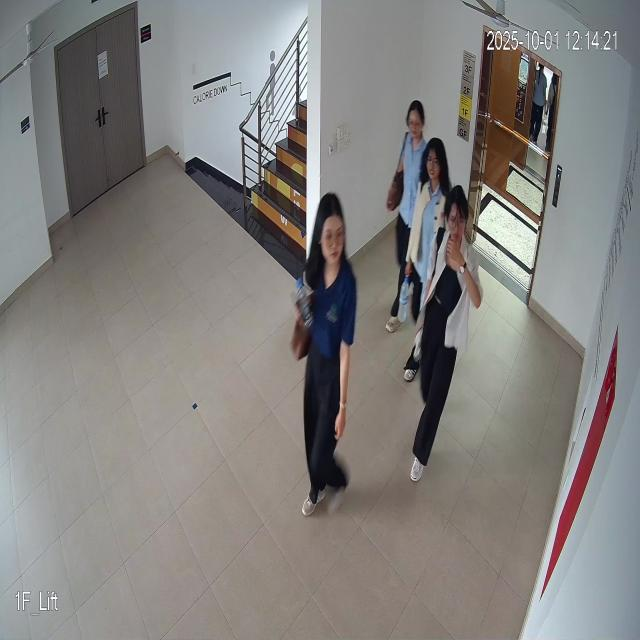face: (314, 189, 349, 275), (446, 181, 471, 245), (423, 138, 448, 189), (405, 97, 426, 144)
